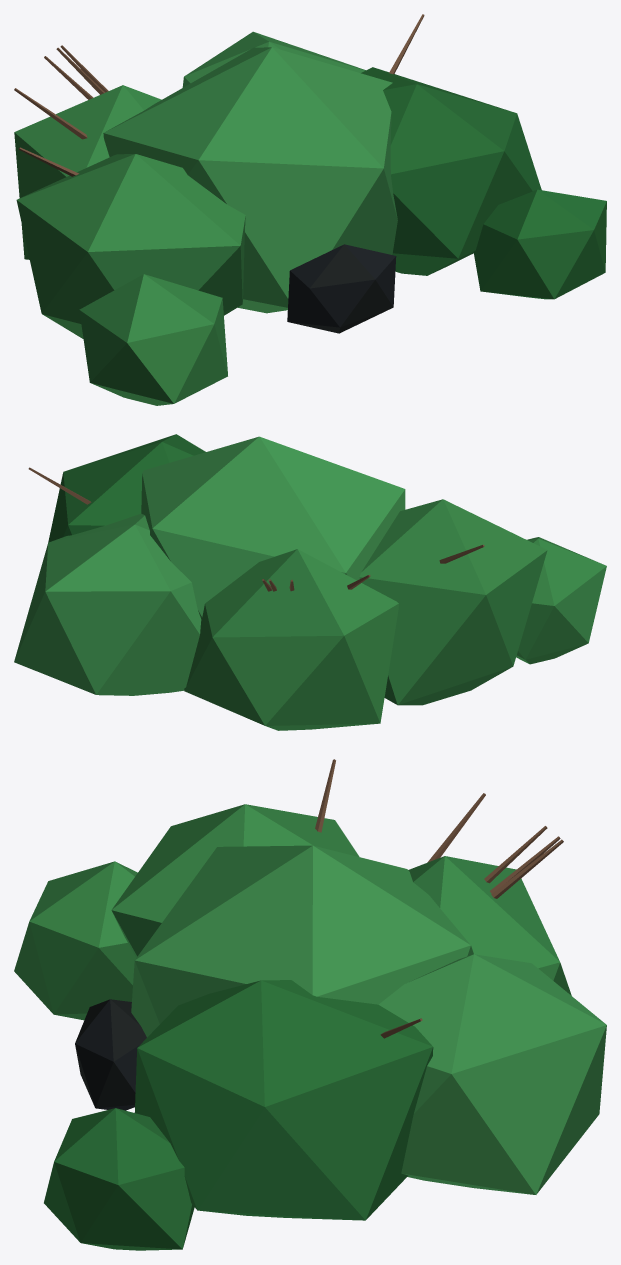
Rendered from lair-thicket.glb.
3 renders of one model, top to bottom at view 1: azimuth 30°, elevation 25°; view 2: azimuth 150°, elevation 25°; view 3: azimuth 270°, elevation 25°, orthographic. The views are drawn at different scales.
Parts seen in each view (by area): view 1: lair-thicket; view 2: lair-thicket; view 3: lair-thicket.
Boxes of the visible parts, <box> form: lair-thicket: <box>14,14,606,405</box>; lair-thicket: <box>14,434,606,730</box>; lair-thicket: <box>14,759,606,1250</box>.
Size of the model in its own units: 4.34 by 1.89 by 3.56.
